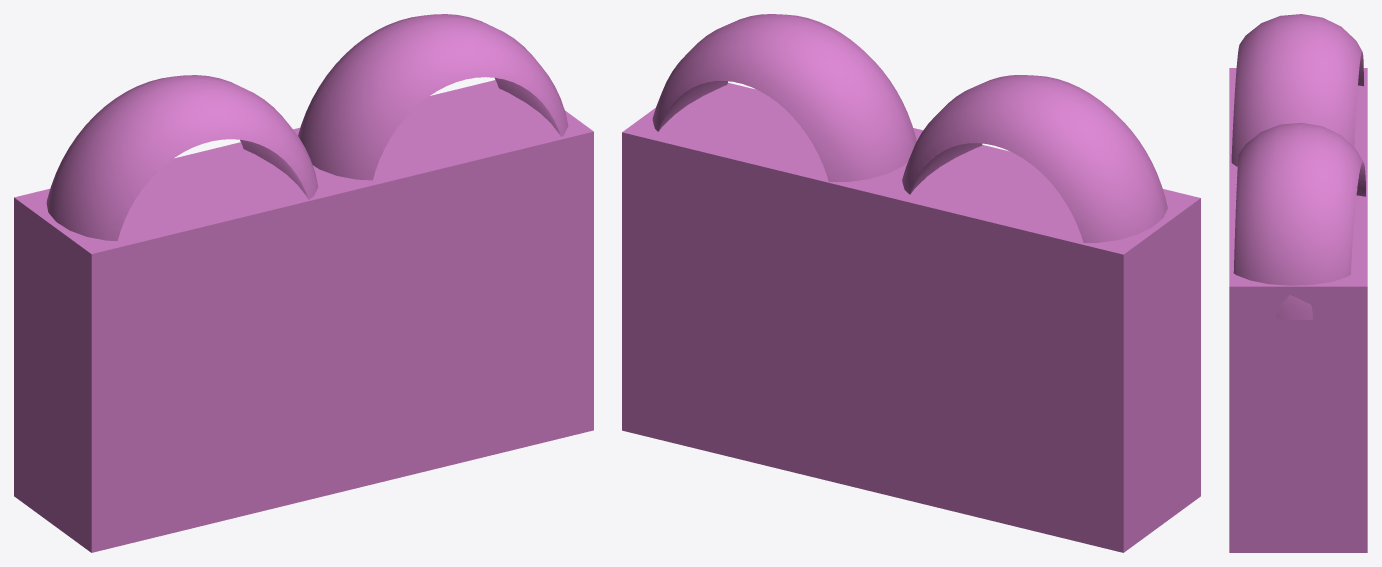
File: walltile.FBX
3 renders of one model, left to right at view 1: azimuth 30°, elevation 25°; view 2: azimuth 150°, elevation 25°; view 3: azimuth 270°, elevation 25°, orthographic. The views are drawn at different scales.
Parts seen in each view (by area): view 1: Box001, Sphere002, Sphere001; view 2: Box001, Sphere002, Sphere001; view 3: Box001, Sphere002, Sphere001.
Part boxes in pixels (box(x1,y1,x2,y2)): Box001: box(14, 80, 593, 552); Sphere002: box(298, 14, 568, 180); Sphere001: box(46, 75, 318, 241); Box001: box(622, 82, 1200, 552); Sphere002: box(652, 14, 916, 181); Sphere001: box(902, 75, 1167, 242); Box001: box(1229, 68, 1367, 552); Sphere002: box(1233, 122, 1365, 320); Sphere001: box(1231, 14, 1363, 166).
Size of the model in its own units: 51.84 by 40.21 by 13.79.
